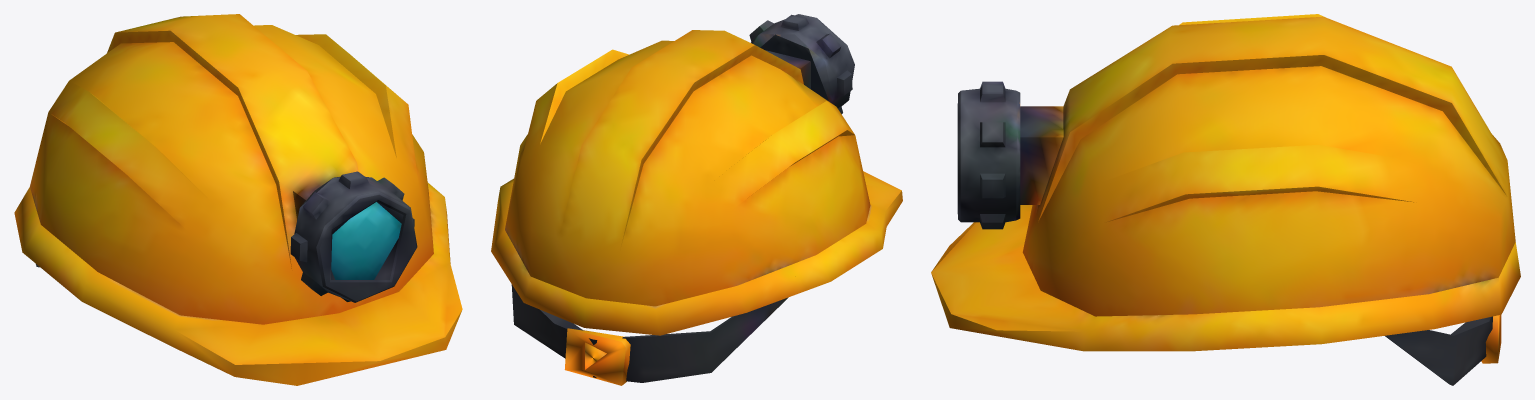
Rendered from Hard_Hat.glb.
The picture shows the model from 3 angles, left to right: view 1: azimuth 30°, elevation 25°; view 2: azimuth 150°, elevation 25°; view 3: azimuth 270°, elevation 25°; orthographic projection. The views are drawn at different scales.
Visible parts, largest first — view 1: Hard_Hat; view 2: Hard_Hat; view 3: Hard_Hat.
Boxes of the visible parts, x1,y1,x2,y2 form: Hard_Hat: (14,14,462,385); Hard_Hat: (491,14,902,385); Hard_Hat: (931,14,1520,385).
Bounding box in the file's own units: 0.5317 × 0.3944 × 0.6584.
Materials: 1 (1 with a texture image).
